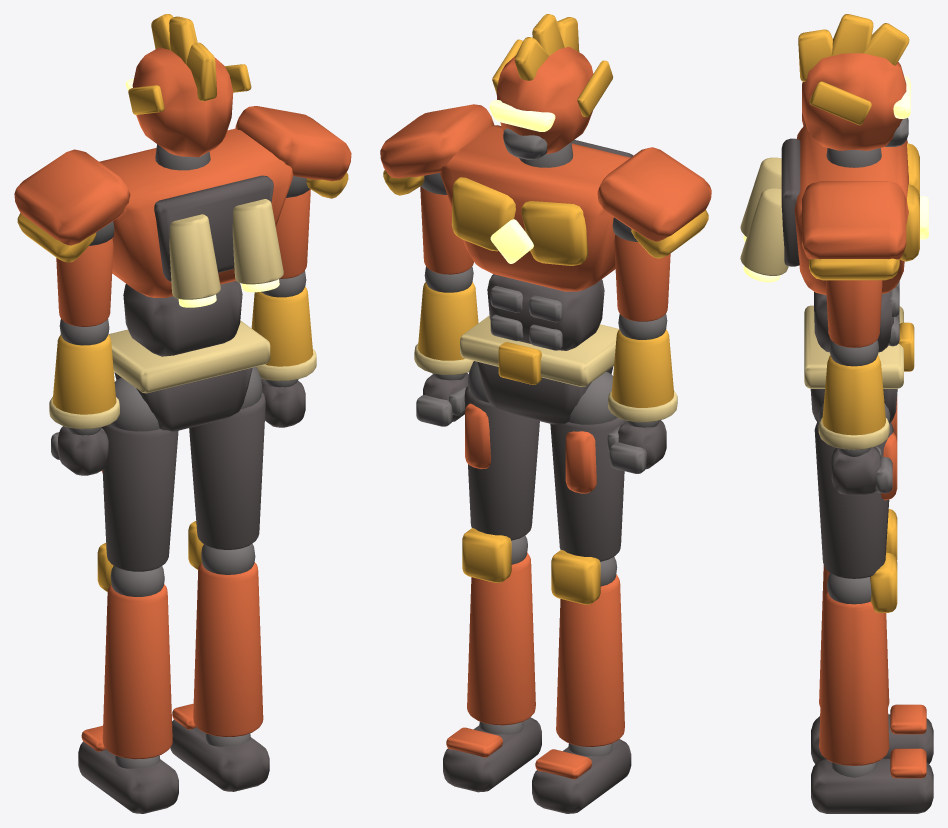
The model's file is blaze.glb.
The picture shows the model from 3 angles, left to right: view 1: azimuth 30°, elevation 25°; view 2: azimuth 150°, elevation 25°; view 3: azimuth 270°, elevation 25°; orthographic projection.
Parts seen in each view (by area): view 1: chest, upper_arm_l, shin_l, shin_r, head, thigh_l, hips, thigh_r, upper_arm_r, lower_arm_l, abdomen, lower_arm_r (+4 smaller); view 2: chest, upper_arm_l, shin_l, shin_r, head, thigh_l, hips, thigh_r, upper_arm_r, abdomen, lower_arm_l, foot_l (+4 smaller); view 3: chest, upper_arm_r, shin_r, head, thigh_r, foot_r, lower_arm_r, hips, hand_r, foot_l, abdomen, shin_l.
Part boxes in pixels (x1,y1,x2,y2): chest: [99, 128, 293, 307]; upper_arm_l: [14, 149, 130, 326]; shin_l: [97, 543, 172, 759]; shin_r: [188, 521, 263, 736]; head: [125, 14, 251, 157]; thigh_l: [101, 377, 178, 571]; hips: [108, 320, 270, 431]; thigh_r: [189, 367, 265, 549]; upper_arm_r: [235, 106, 351, 278]; lower_arm_l: [49, 319, 119, 429]; abdomen: [123, 281, 242, 356]; lower_arm_r: [251, 270, 316, 381]; chest: [440, 125, 633, 291]; upper_arm_l: [597, 147, 711, 321]; shin_l: [551, 550, 624, 746]; shin_r: [462, 528, 535, 725]; head: [489, 14, 612, 159]; thigh_l: [550, 372, 626, 561]; hips: [460, 315, 619, 424]; thigh_r: [464, 361, 539, 540]; upper_arm_r: [380, 104, 494, 274]; abdomen: [487, 274, 604, 350]; lower_arm_l: [608, 314, 677, 422]; foot_l: [532, 739, 631, 813]; chest: [740, 124, 928, 295]; upper_arm_r: [802, 181, 906, 347]; shin_r: [819, 552, 897, 765]; head: [798, 14, 910, 150]; thigh_r: [814, 403, 897, 578]; foot_r: [811, 748, 933, 813]; lower_arm_r: [818, 340, 889, 449]; hips: [804, 305, 914, 422]; hand_r: [831, 446, 892, 495]; foot_l: [811, 704, 933, 763]; abdomen: [814, 281, 899, 352]; shin_l: [819, 509, 897, 706].
Bounding box in the file's own units: 0.758 × 1.87 × 0.4258.
